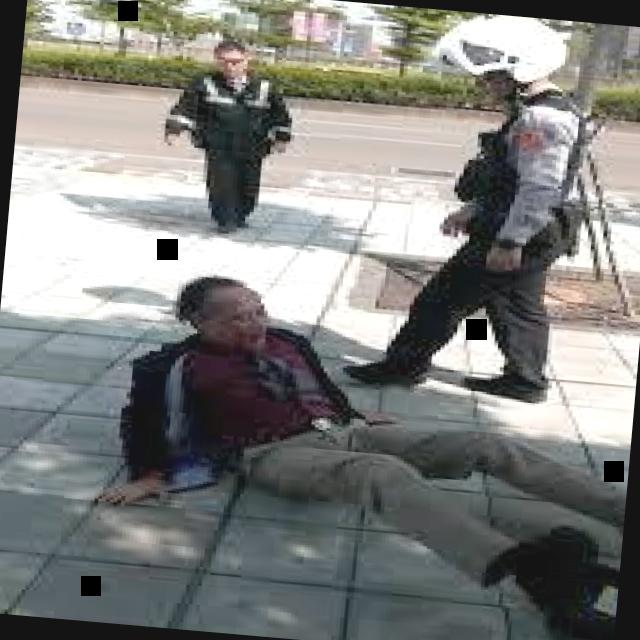Fall-Detected: (63, 247, 640, 634)
